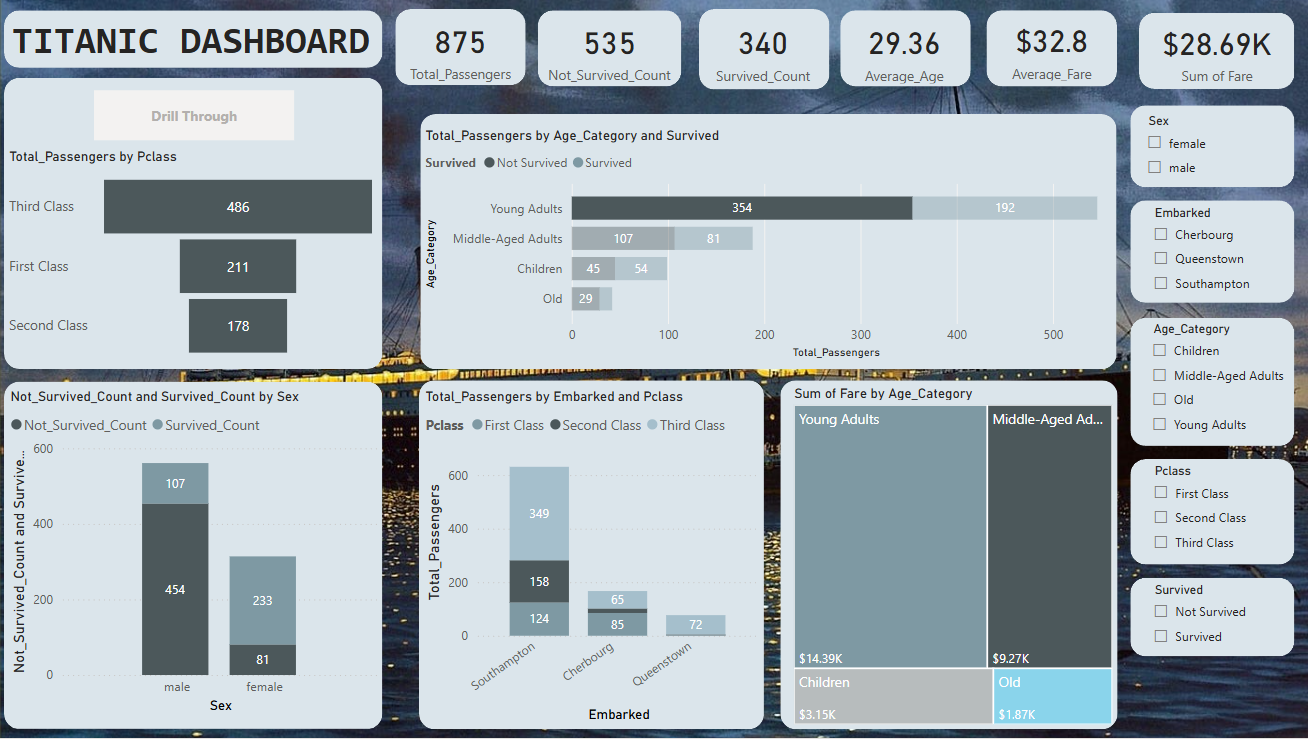

The dashboard page shown, as its layout file describes it:
{"tool":"powerbi","page":{"name":"Overview","canvas":[1280,720],"ordinal":0},"visuals":[{"type":"shape","box":[415.5,111.9,678.6,248.8],"z":0},{"type":"shape","box":[1107.1,448.6,160,102.9],"z":1000},{"type":"shape","box":[687.1,10,127.1,78.6],"z":2000},{"type":"shape","box":[391.4,10,127.1,74.3],"z":3000},{"type":"shape","box":[1106.7,196.7,160,100],"z":4000},{"type":"shape","box":[530,11.4,140,74.3],"z":5000},{"type":"shape","box":[1115.7,12.9,151.4,74.3],"z":6000},{"type":"shape","box":[1106.7,563.3,160,76.7],"z":7000},{"type":"shape","box":[1106.7,310,160,125],"z":8000},{"type":"shape","box":[1106.7,103.3,160,80],"z":9000},{"type":"shape","box":[967.1,11.4,127.1,74.3],"z":10000},{"type":"shape","box":[10,372.5,368.8,338.8],"z":11000},{"type":"shape","box":[824.3,11.4,127.1,74.3],"z":12000},{"type":"shape","box":[10,11.2,368.8,56.2],"z":13000},{"type":"shape","box":[766.2,371.2,328.8,340],"z":14000},{"type":"shape","box":[413.8,371.2,336.2,340],"z":15000},{"type":"shape","box":[10,76.2,368.8,283.8],"z":16000},{"type":"card","fields":{"Values":["Titanic.Total_Passengers"]},"box":[391.2,11.2,127.5,75],"z":17000},{"type":"card","fields":{"Values":["Titanic.Survived_Count"]},"box":[686.2,12.5,127.5,76.2],"z":18000},{"type":"card","fields":{"Values":["Titanic.Not_Survived_Count"]},"box":[530,12.5,140,75],"z":19000},{"type":"card","fields":{"Values":["Titanic.Average_Age"]},"box":[823.8,13.8,127.5,73.8],"z":20000},{"type":"card","fields":{"Values":["Titanic.Average_Fare"]},"box":[967.5,12.5,127.5,72.5],"z":21000},{"type":"slicer","fields":{"Values":["Titanic.Sex"]},"box":[1112.5,107.5,150,76.2],"z":22000},{"type":"slicer","fields":{"Values":["Titanic.Embarked"]},"box":[1117.5,196.2,150,100],"z":23000},{"type":"slicer","fields":{"Values":["Titanic.Pclass"]},"box":[1117.5,448.8,150,102.5],"z":24000},{"type":"slicer","fields":{"Values":["Titanic.Age_Category"]},"box":[1116.2,308.8,150,123.8],"z":25000},{"type":"columnChart","fields":{"Category":["Titanic.Embarked"],"Y":["Titanic.Total_Passengers"],"Series":["Titanic.Pclass"]},"box":[415,380,336.2,328.8],"z":26000},{"type":"funnel","fields":{"Category":["Titanic.Pclass"],"Y":["Titanic.Total_Passengers"]},"box":[10,146.2,368.8,213.8],"z":27000},{"type":"columnChart","fields":{"Y":["Titanic.Not_Survived_Count","Titanic.Survived_Count"],"Category":["Titanic.Sex"]},"box":[11.2,380,368.8,320],"z":28000},{"type":"barChart","fields":{"Category":["Titanic.Age_Category"],"Y":["Key measure.Total_Passengers"],"Series":["Titanic.Survived"]},"box":[415.5,125,678.6,229.8],"z":29000},{"type":"slicer","fields":{"Values":["Titanic.Survived"]},"box":[1117.5,563.8,150,76.2],"z":30000},{"type":"card","fields":{"Values":["Sum(Titanic.Fare)"]},"box":[1116.2,13.8,150,75],"z":31000},{"type":"textbox","box":[12.5,13.8,368.8,62.5],"z":32000},{"type":"actionButton","box":[97.5,88.8,195,48.8],"z":33000},{"type":"treemap","fields":{"Group":["Titanic.Age_Category"],"Values":["Sum(Titanic.Fare)"]},"box":[774.2,376.3,320,335.6],"z":34000}]}

Visuals, with their boxes in screenshot pixels (x1, y1, x2, y2), scaled from the page's 1280x720 canvas onto the 1308x739 screenshot:
shape: select_region(425, 115, 1118, 370)
shape: select_region(1131, 460, 1295, 566)
shape: select_region(702, 10, 832, 91)
shape: select_region(400, 10, 530, 87)
shape: select_region(1131, 202, 1294, 305)
shape: select_region(542, 12, 685, 88)
shape: select_region(1140, 13, 1295, 90)
shape: select_region(1131, 578, 1294, 657)
shape: select_region(1131, 318, 1294, 446)
shape: select_region(1131, 106, 1294, 188)
shape: select_region(988, 12, 1118, 88)
shape: select_region(10, 382, 387, 730)
shape: select_region(842, 12, 972, 88)
shape: select_region(10, 11, 387, 69)
shape: select_region(783, 381, 1119, 730)
shape: select_region(423, 381, 766, 730)
shape: select_region(10, 78, 387, 369)
card - Titanic.Total_Passengers: select_region(400, 11, 530, 88)
card - Titanic.Survived_Count: select_region(701, 13, 831, 91)
card - Titanic.Not_Survived_Count: select_region(542, 13, 685, 90)
card - Titanic.Average_Age: select_region(842, 14, 972, 90)
card - Titanic.Average_Fare: select_region(989, 13, 1119, 87)
slicer - Titanic.Sex: select_region(1137, 110, 1290, 189)
slicer - Titanic.Embarked: select_region(1142, 201, 1295, 304)
slicer - Titanic.Pclass: select_region(1142, 461, 1295, 566)
slicer - Titanic.Age_Category: select_region(1141, 317, 1294, 444)
columnChart - Titanic.Embarked x Titanic.Total_Passengers: select_region(424, 390, 768, 728)
funnel - Titanic.Pclass x Titanic.Total_Passengers: select_region(10, 150, 387, 369)
columnChart - Titanic.Not_Survived_Count x Titanic.Survived_Count: select_region(11, 390, 388, 718)
barChart - Titanic.Age_Category x Key measure.Total_Passengers: select_region(425, 128, 1118, 364)
slicer - Titanic.Survived: select_region(1142, 579, 1295, 657)
card - Sum(Titanic.Fare): select_region(1141, 14, 1294, 91)
textbox: select_region(13, 14, 390, 78)
actionButton: select_region(100, 91, 299, 141)
treemap - Titanic.Age_Category x Sum(Titanic.Fare): select_region(791, 386, 1118, 731)
